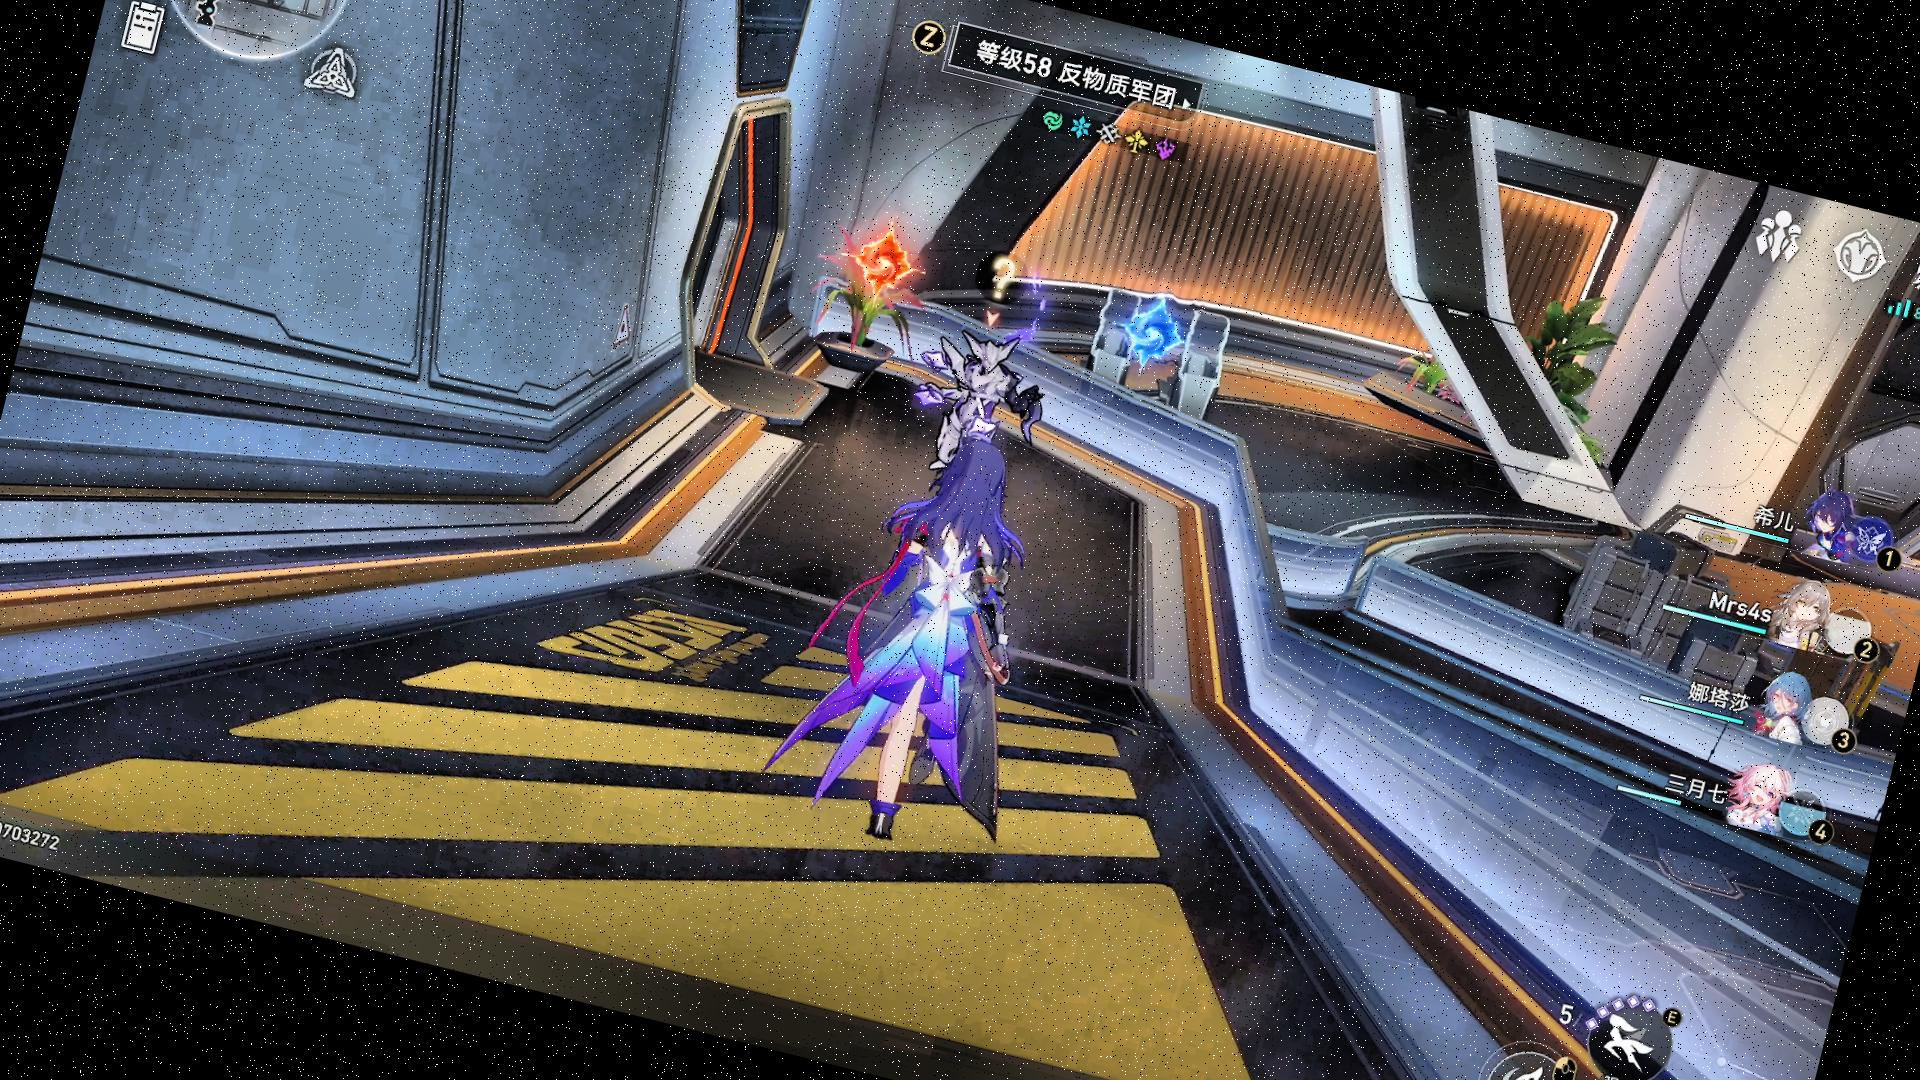BattleDoor: (831, 214, 938, 315)
Enemy: (765, 413, 1058, 876), (899, 323, 1060, 502)
EventDoor: (1108, 293, 1201, 384)
